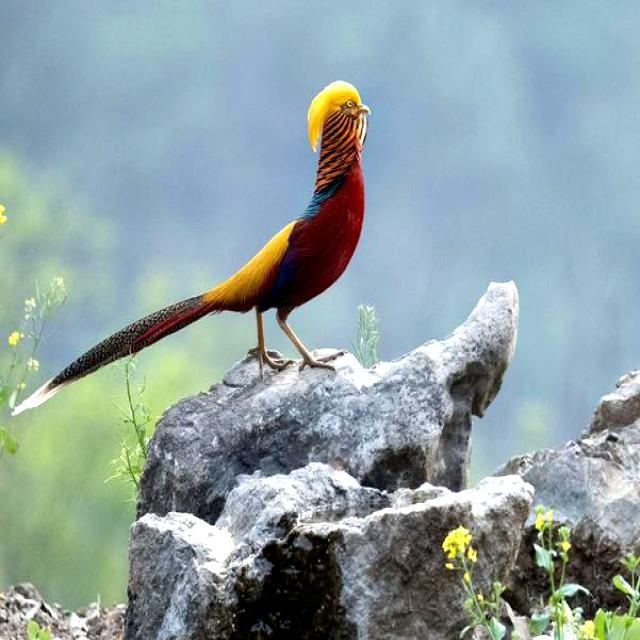Chrysolophus pictus feather: (13, 294, 208, 415)
